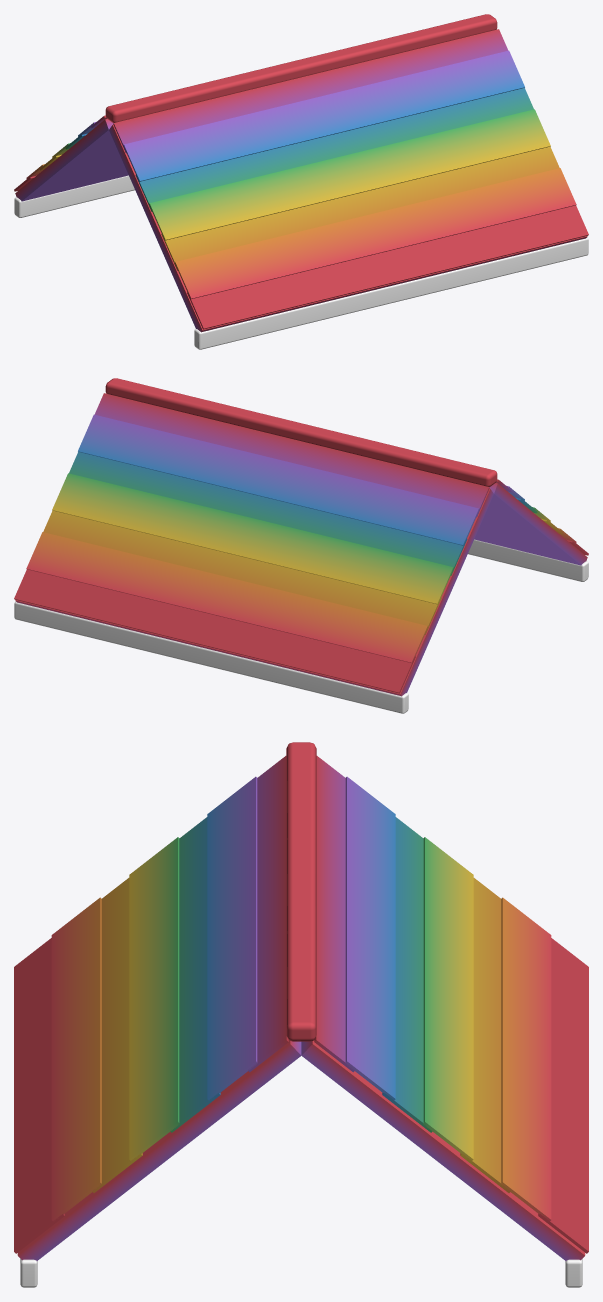
The model's file is house_roof_gable_rainbow.glb.
3 renders of one model, top to bottom at view 1: azimuth 30°, elevation 25°; view 2: azimuth 150°, elevation 25°; view 3: azimuth 270°, elevation 25°, orthographic. The views are drawn at different scales.
Visible parts, largest first — view 1: house_roof_gable_rainbow_house_roof_rainbow, house_roof_gable_rainbow_house_trim; view 2: house_roof_gable_rainbow_house_roof_rainbow, house_roof_gable_rainbow_house_trim; view 3: house_roof_gable_rainbow_house_roof_rainbow, house_roof_gable_rainbow_house_trim.
Part boxes in pixels (x1,y1,x2,y2): house_roof_gable_rainbow_house_roof_rainbow: (14,14,588,332); house_roof_gable_rainbow_house_trim: (14,175,588,349); house_roof_gable_rainbow_house_roof_rainbow: (14,378,588,696); house_roof_gable_rainbow_house_trim: (14,539,588,713); house_roof_gable_rainbow_house_roof_rainbow: (14,742,588,1260); house_roof_gable_rainbow_house_trim: (20,1259,582,1287).
Bounding box in the file's own units: 3.18 × 1.35 × 2.68.
